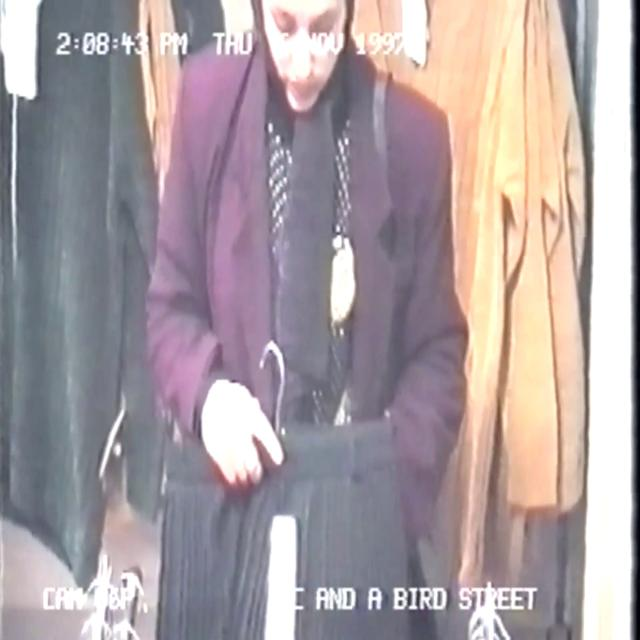Product: (148, 437, 414, 636)
shoplifting: (105, 0, 469, 640)
